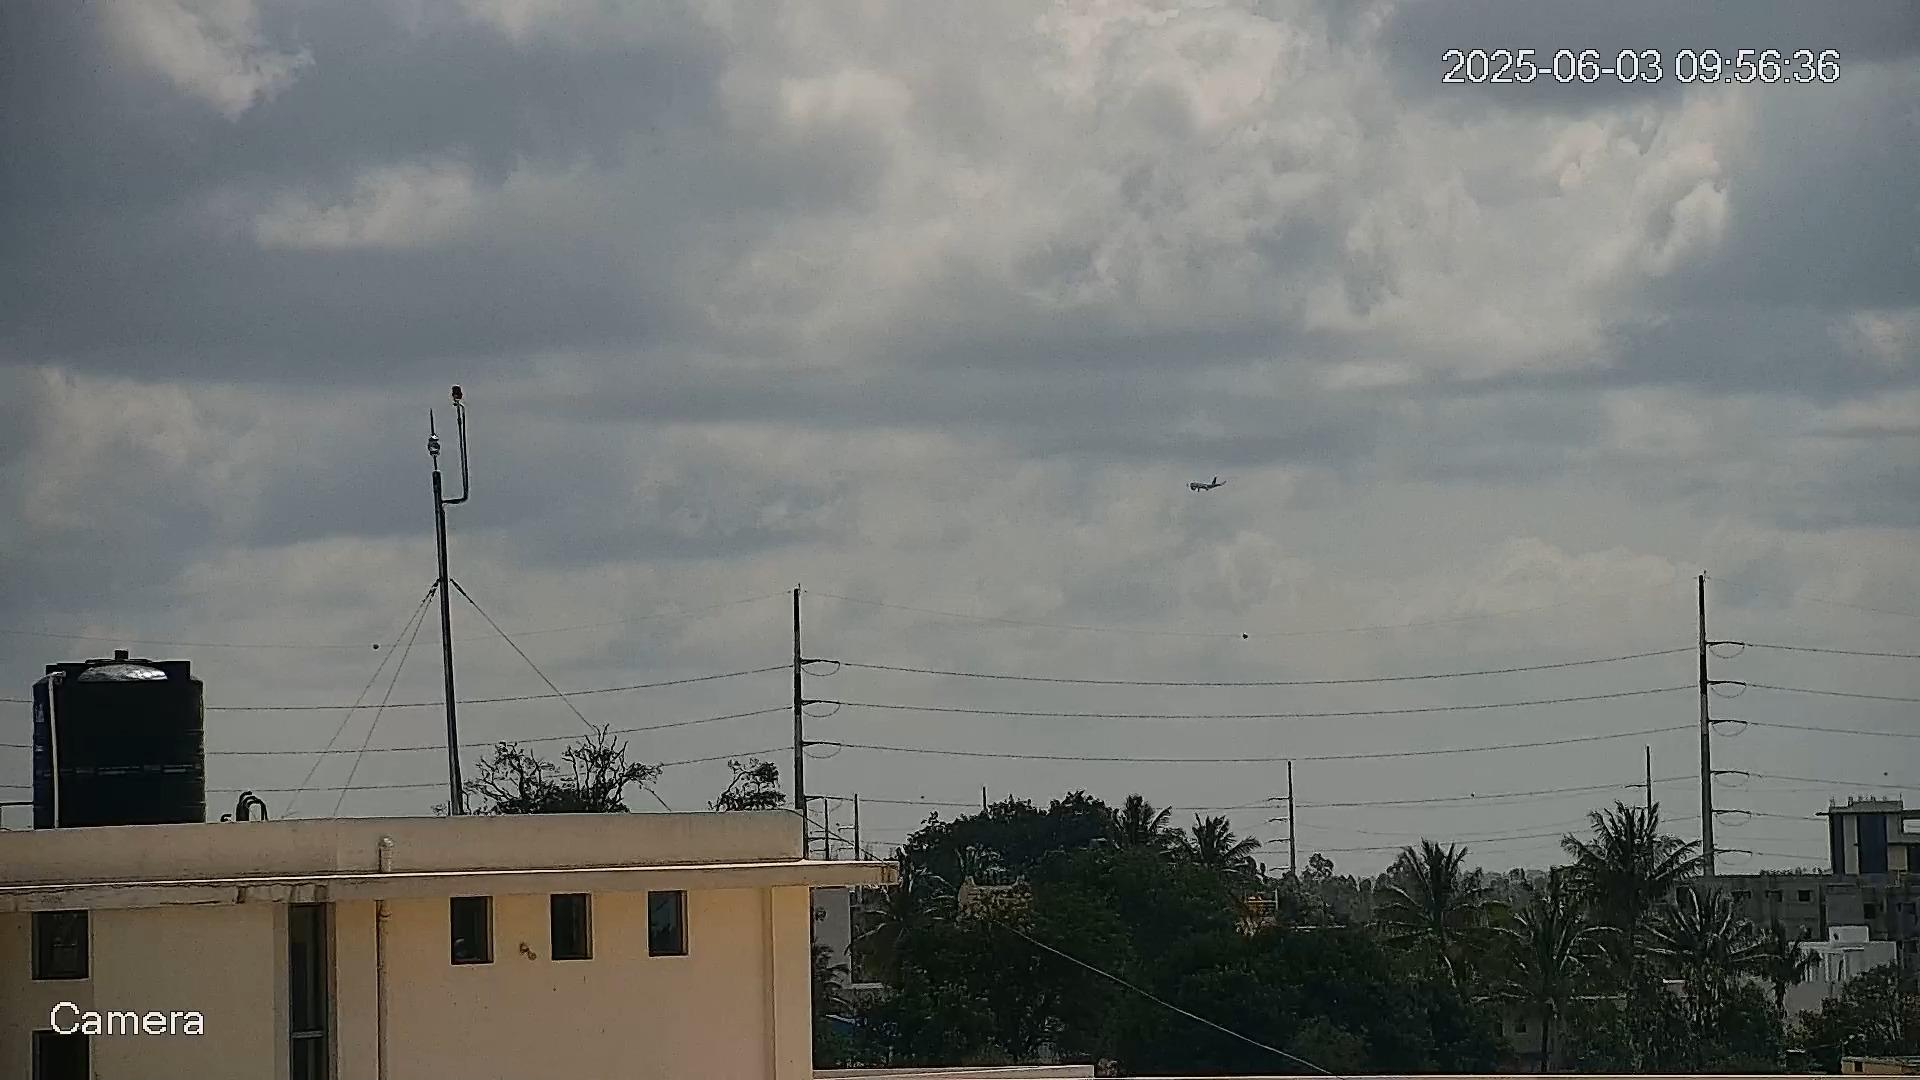Aircraft: (1188, 475, 1225, 492)
